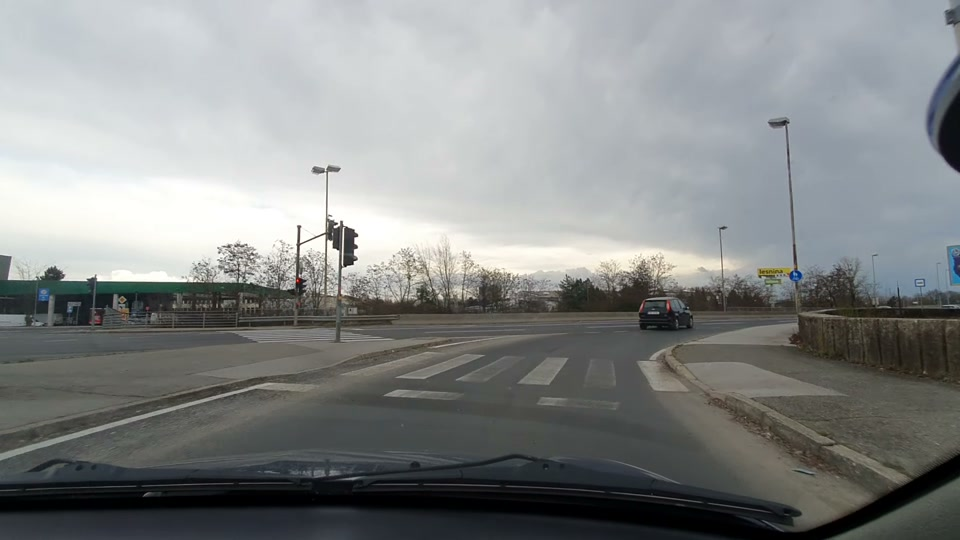vehicle_ign: (630, 293, 697, 337)
